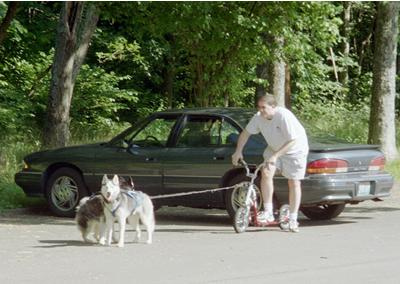without_mask: (257, 98, 278, 119)
